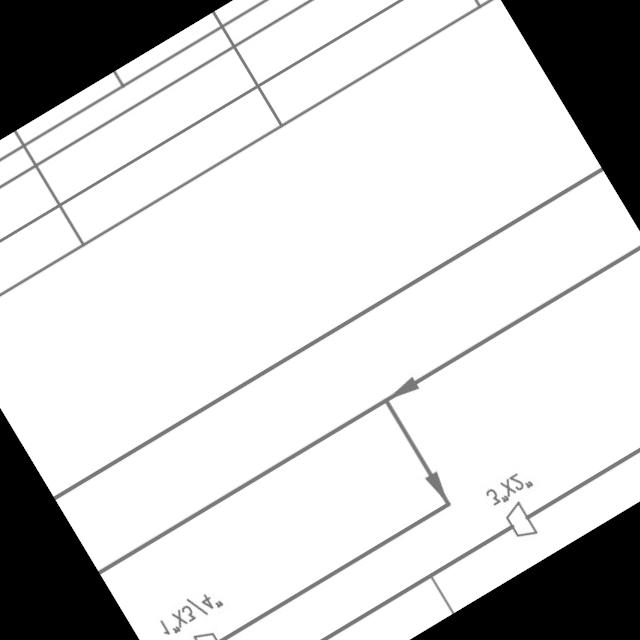SP: (496, 498, 542, 548), (186, 624, 231, 640)
